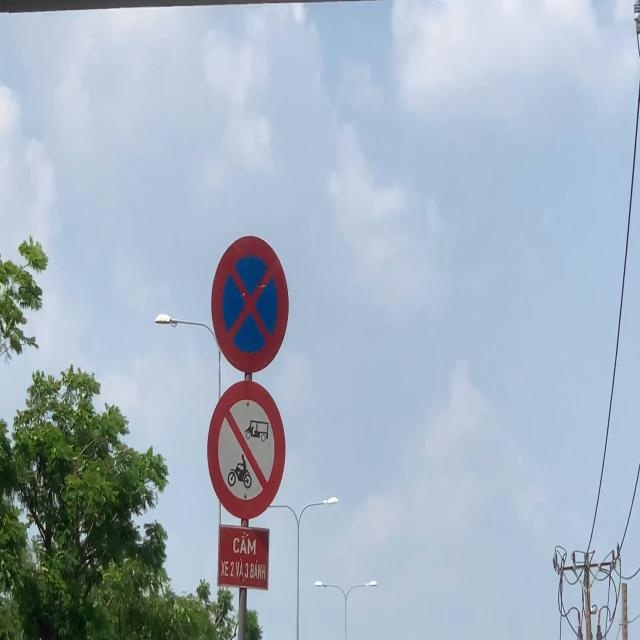bien_cam: (211, 235, 289, 373)
